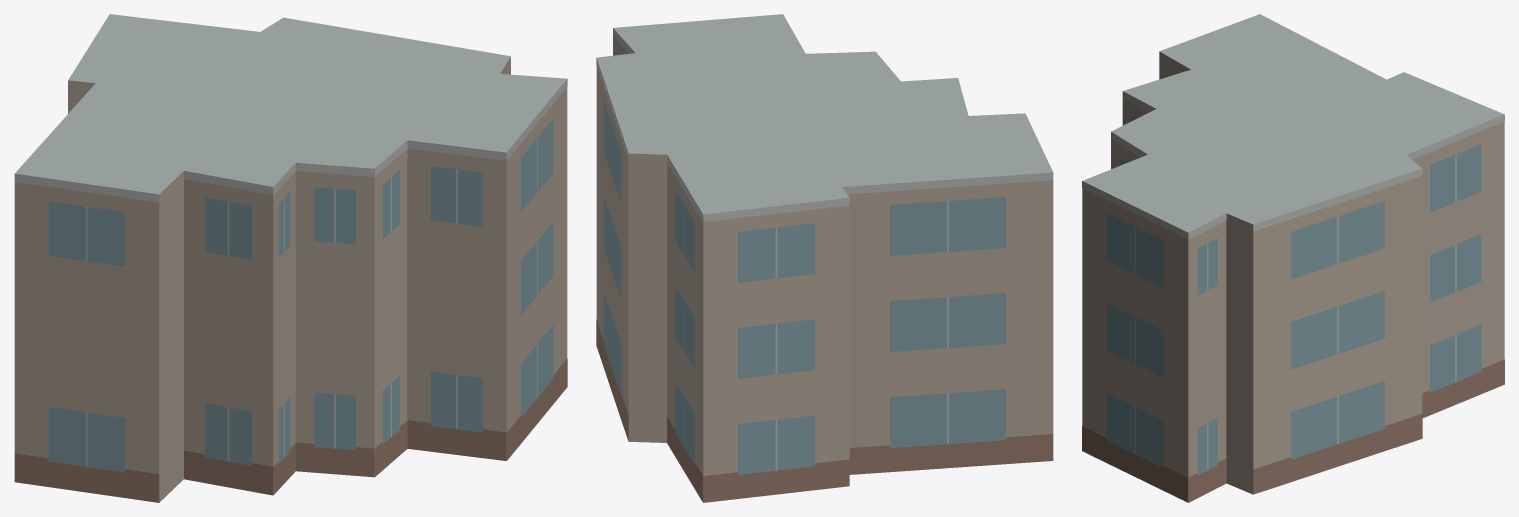
File: survey-upis-32489922.glb
The picture shows the model from 3 angles, left to right: view 1: azimuth 30°, elevation 25°; view 2: azimuth 150°, elevation 25°; view 3: azimuth 270°, elevation 25°; orthographic projection. The views are drawn at different scales.
Visible parts, largest first — view 1: survey-upis-32489922.tmp; view 2: survey-upis-32489922.tmp; view 3: survey-upis-32489922.tmp.
Boxes of the visible parts, bbox=[...] form: survey-upis-32489922.tmp: bbox=[14, 14, 567, 502]; survey-upis-32489922.tmp: bbox=[596, 14, 1053, 502]; survey-upis-32489922.tmp: bbox=[1082, 14, 1504, 502].
Bounding box in the file's own units: 15.9 × 9.15 × 12.98.
